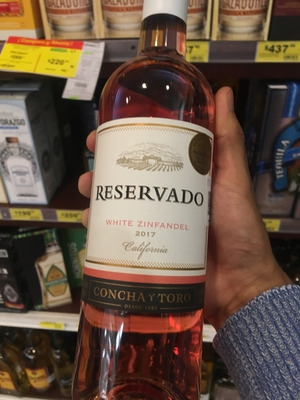reservado white zinfandel: (82, 20, 217, 400)
